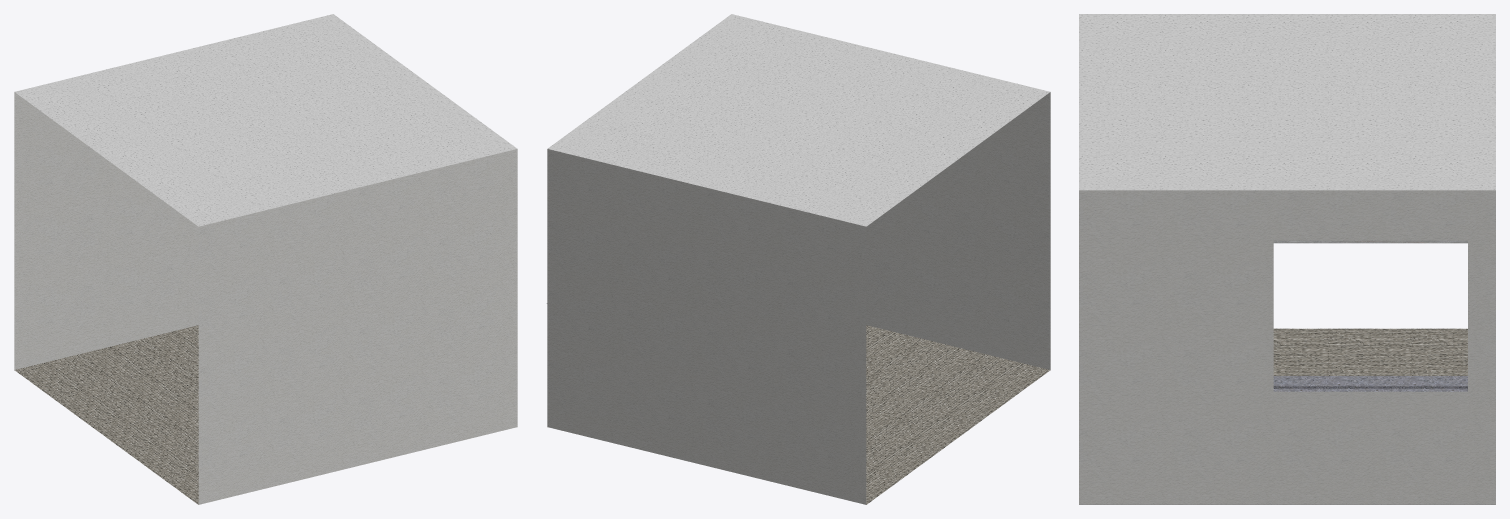
Rendered from officestraight.fbx.
3 views of the same model, side by side, from view 1: azimuth 30°, elevation 25°; view 2: azimuth 150°, elevation 25°; view 3: azimuth 270°, elevation 25° (orthographic). The views are drawn at different scales.
Parts seen in each view (by area): view 1: RightWall, Ceiling, LeftWall, Floor; view 2: LeftWall, Ceiling, RightWall, Floor; view 3: BackWall, Ceiling, Floor.
Part boxes in pixels (x1,y1,x2,y2): RightWall: (198,149,517,504); Ceiling: (14,14,517,226); LeftWall: (14,92,198,369); Floor: (14,325,198,504); LeftWall: (547,149,866,504); Ceiling: (547,14,1050,226); RightWall: (866,92,1050,369); Floor: (866,325,1050,504); BackWall: (1079,190,1495,504); Ceiling: (1079,14,1495,190); Floor: (1273,328,1467,375).
Bounding box in the file's own units: 3.12 × 2.5 × 3.
